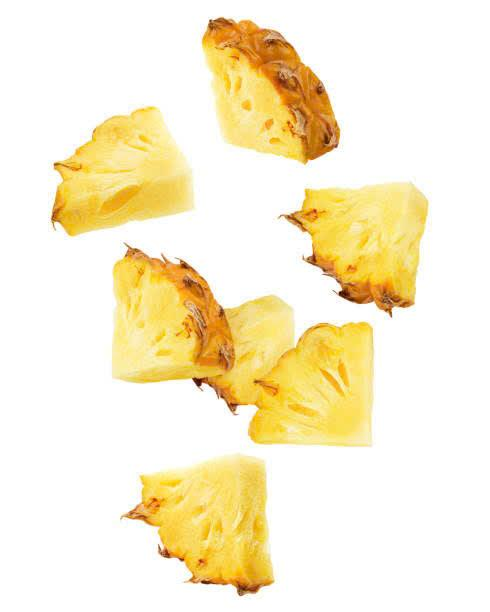pineapple: (80, 449, 317, 601), (246, 301, 437, 479), (293, 166, 470, 329), (61, 223, 232, 389), (163, 19, 345, 163), (41, 106, 252, 221)
